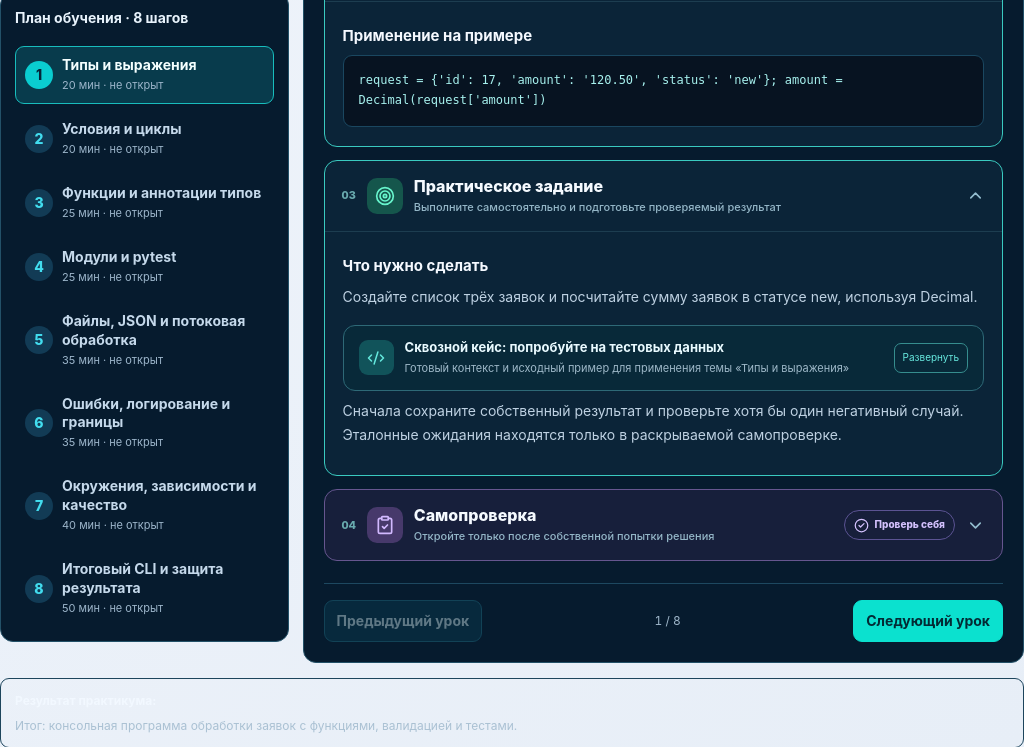
Test case: Bootcamp editorial course curriculum › makes a real technical handbook visible within the lesson and updates by chapter
(page scrolled)
Click the button "Следующий урок" at x=928, y=621, box [853,600,1003,642]
(page scrolled)
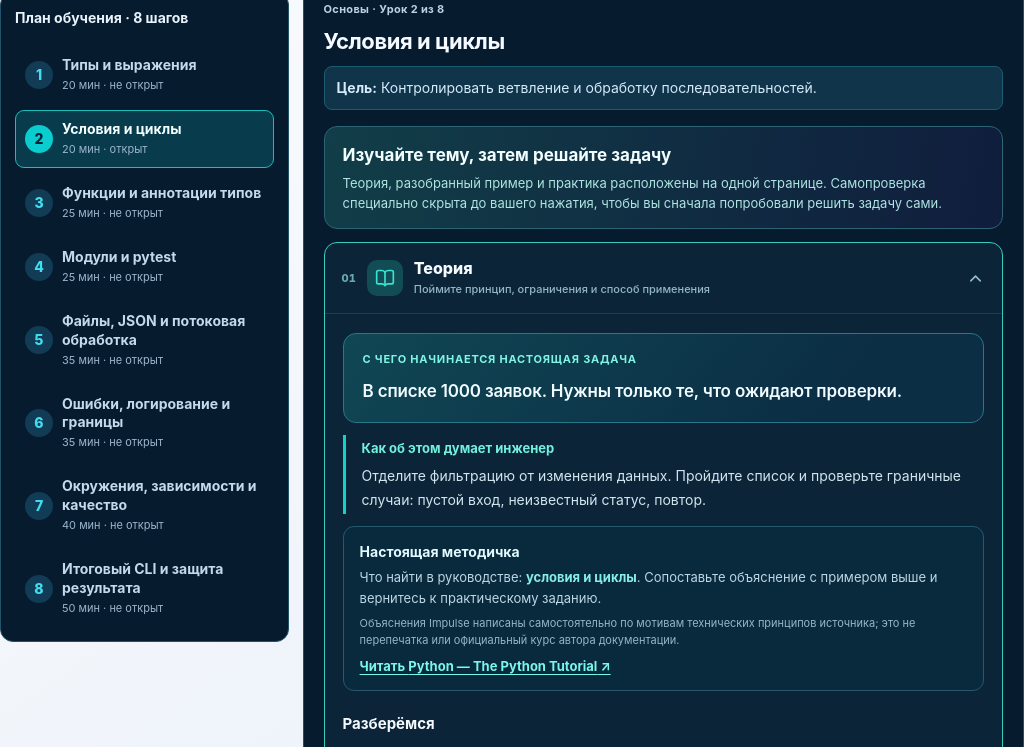
Expected: the text "В списке 1000 заявок. Нужны только те, что ожидают проверки." is shown, [363,378,964,405]
